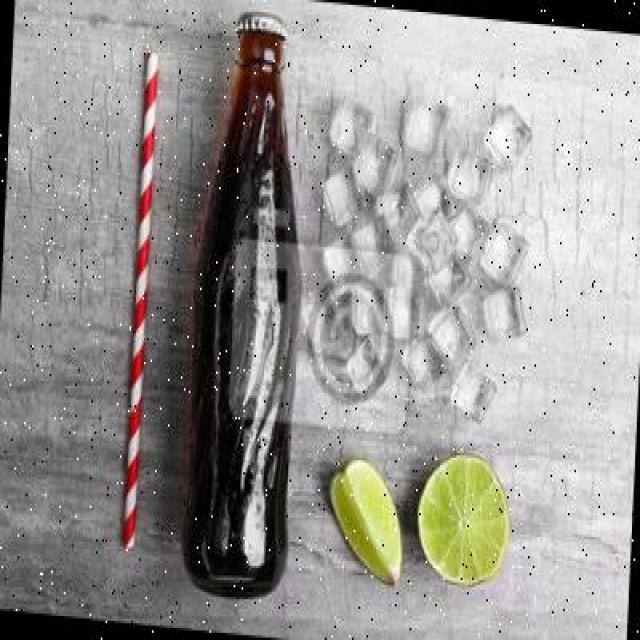coca-cola: (182, 0, 320, 609)
